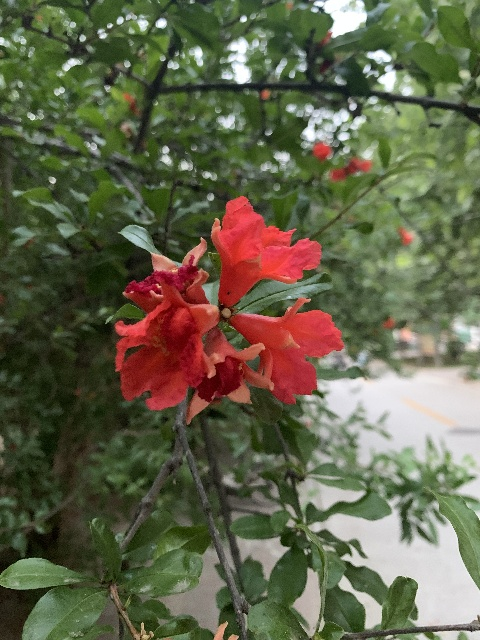flower: (113, 284, 220, 411), (210, 196, 323, 308), (228, 297, 343, 405), (183, 326, 274, 425), (123, 235, 212, 313), (159, 620, 265, 640)
